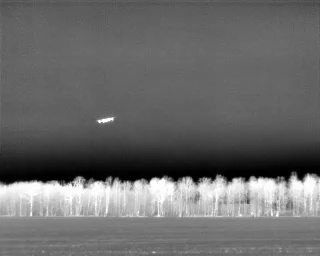DRONE: (93, 112, 118, 128)
